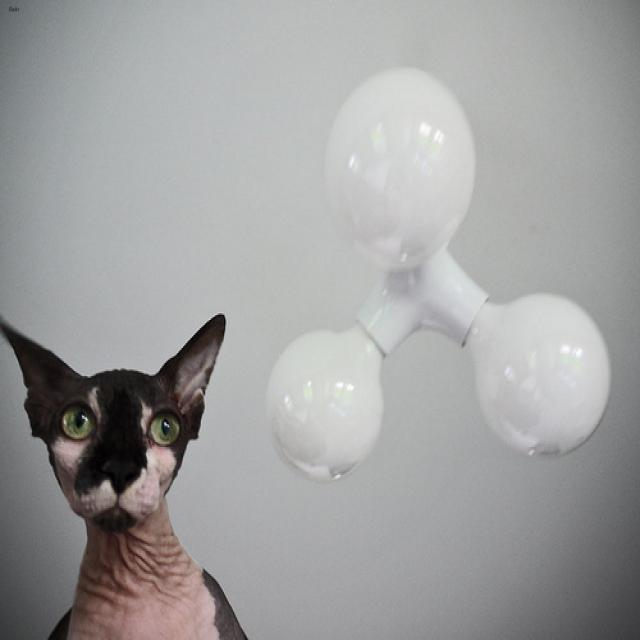Sphynx: (0, 303, 232, 536)
